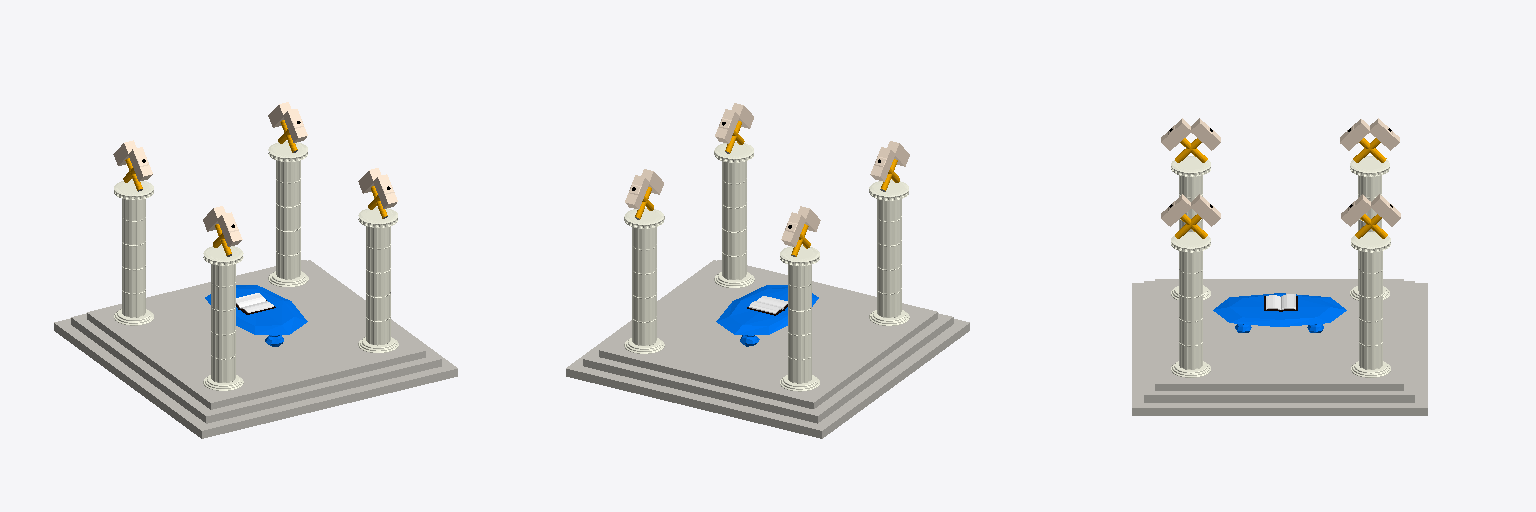
File: SmithsALTAR2.obj
3 renders of one model, left to right at view 1: azimuth 30°, elevation 25°; view 2: azimuth 150°, elevation 25°; view 3: azimuth 270°, elevation 25°, orthographic.
Visible parts, largest first — view 1: MushroomsALTAR2:altar:pCube15 MushroomsALTAR2:polySurface30, MushroomsALTAR2:altar:polySurface29 MushroomsALTAR2:altar:pCube1, MushroomsALTAR2:altar:pCube15 MushroomsALTAR2:polySurface29, MushroomsALTAR2:altar:pCylinder9, MushroomsALTAR2:altar:pCylinder10, MushroomsALTAR2:altar:pCylinder11, MushroomsALTAR2:altar:pCylinder12, MushroomsALTAR2:altar:polySurface26 MushroomsALTAR2:polySurface3, pCylinder30, pCylinder32, Smiths:pCylinder30, pCylinder31; view 2: MushroomsALTAR2:altar:pCube15 MushroomsALTAR2:polySurface30, MushroomsALTAR2:altar:polySurface29 MushroomsALTAR2:altar:pCube1, MushroomsALTAR2:altar:pCube15 MushroomsALTAR2:polySurface29, MushroomsALTAR2:altar:pCylinder10, MushroomsALTAR2:altar:pCylinder9, MushroomsALTAR2:altar:pCylinder11, MushroomsALTAR2:altar:pCylinder12, MushroomsALTAR2:altar:polySurface26 MushroomsALTAR2:polySurface3, Smiths:pCylinder30, pCylinder30, pCylinder31, pCylinder32; view 3: MushroomsALTAR2:altar:pCube15 MushroomsALTAR2:polySurface30, MushroomsALTAR2:altar:polySurface29 MushroomsALTAR2:altar:pCube1, MushroomsALTAR2:altar:pCube15 MushroomsALTAR2:polySurface29, MushroomsALTAR2:altar:pCylinder9, MushroomsALTAR2:altar:pCylinder10, MushroomsALTAR2:altar:polySurface26 MushroomsALTAR2:polySurface3, MushroomsALTAR2:altar:pCylinder12, MushroomsALTAR2:altar:pCylinder11, Smiths:pCylinder30, pCylinder30, pCylinder31, pCylinder32.
Part boxes in pixels (bbox=[...]): MushroomsALTAR2:altar:pCube15 MushroomsALTAR2:polySurface30: bbox=[87, 260, 425, 409]; MushroomsALTAR2:altar:polySurface29 MushroomsALTAR2:altar:pCube1: bbox=[54, 260, 457, 438]; MushroomsALTAR2:altar:pCube15 MushroomsALTAR2:polySurface29: bbox=[71, 260, 441, 423]; MushroomsALTAR2:altar:pCylinder9: bbox=[268, 141, 308, 286]; MushroomsALTAR2:altar:pCylinder10: bbox=[358, 207, 398, 352]; MushroomsALTAR2:altar:pCylinder11: bbox=[203, 245, 243, 390]; MushroomsALTAR2:altar:pCylinder12: bbox=[114, 179, 153, 325]; MushroomsALTAR2:altar:polySurface26 MushroomsALTAR2:polySurface3: bbox=[205, 285, 307, 346]; pCylinder30: bbox=[203, 206, 242, 256]; pCylinder32: bbox=[268, 102, 307, 152]; Smiths:pCylinder30: bbox=[113, 140, 152, 191]; pCylinder31: bbox=[358, 168, 397, 218]; MushroomsALTAR2:altar:pCube15 MushroomsALTAR2:polySurface30: bbox=[599, 260, 937, 408]; MushroomsALTAR2:altar:polySurface29 MushroomsALTAR2:altar:pCube1: bbox=[566, 260, 969, 438]; MushroomsALTAR2:altar:pCube15 MushroomsALTAR2:polySurface29: bbox=[583, 260, 953, 423]; MushroomsALTAR2:altar:pCylinder10: bbox=[714, 142, 754, 287]; MushroomsALTAR2:altar:pCylinder9: bbox=[624, 208, 664, 353]; MushroomsALTAR2:altar:pCylinder11: bbox=[869, 180, 909, 325]; MushroomsALTAR2:altar:pCylinder12: bbox=[780, 245, 819, 391]; MushroomsALTAR2:altar:polySurface26 MushroomsALTAR2:polySurface3: bbox=[716, 285, 818, 346]; Smiths:pCylinder30: bbox=[781, 206, 820, 256]; pCylinder30: bbox=[870, 141, 909, 191]; pCylinder31: bbox=[715, 103, 753, 153]; pCylinder32: bbox=[625, 169, 663, 219]; MushroomsALTAR2:altar:pCube15 MushroomsALTAR2:polySurface30: bbox=[1155, 279, 1403, 390]; MushroomsALTAR2:altar:polySurface29 MushroomsALTAR2:altar:pCube1: bbox=[1132, 283, 1427, 415]; MushroomsALTAR2:altar:pCube15 MushroomsALTAR2:polySurface29: bbox=[1144, 281, 1414, 402]; MushroomsALTAR2:altar:pCylinder9: bbox=[1351, 232, 1390, 377]; MushroomsALTAR2:altar:pCylinder10: bbox=[1171, 232, 1210, 377]; MushroomsALTAR2:altar:polySurface26 MushroomsALTAR2:polySurface3: bbox=[1213, 293, 1346, 332]; MushroomsALTAR2:altar:pCylinder12: bbox=[1350, 156, 1389, 300]; MushroomsALTAR2:altar:pCylinder11: bbox=[1171, 156, 1210, 299]; Smiths:pCylinder30: bbox=[1340, 118, 1399, 162]; pCylinder30: bbox=[1161, 118, 1220, 162]; pCylinder31: bbox=[1161, 194, 1220, 238]; pCylinder32: bbox=[1341, 194, 1400, 238].
Bounding box in the file's own units: 13.82 × 10.04 × 13.82.